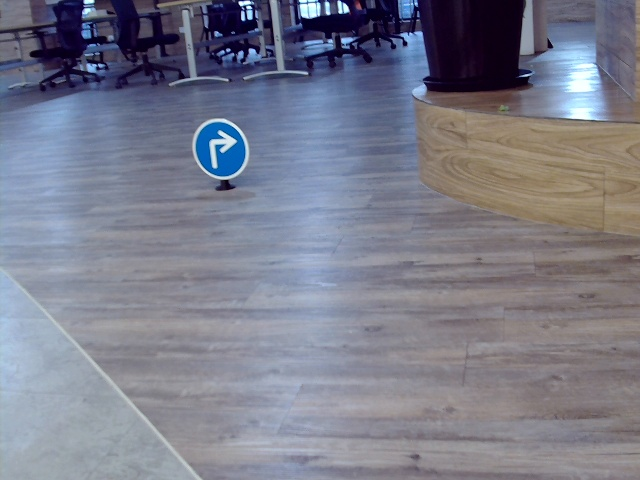turn_right: (207, 127, 235, 168)
